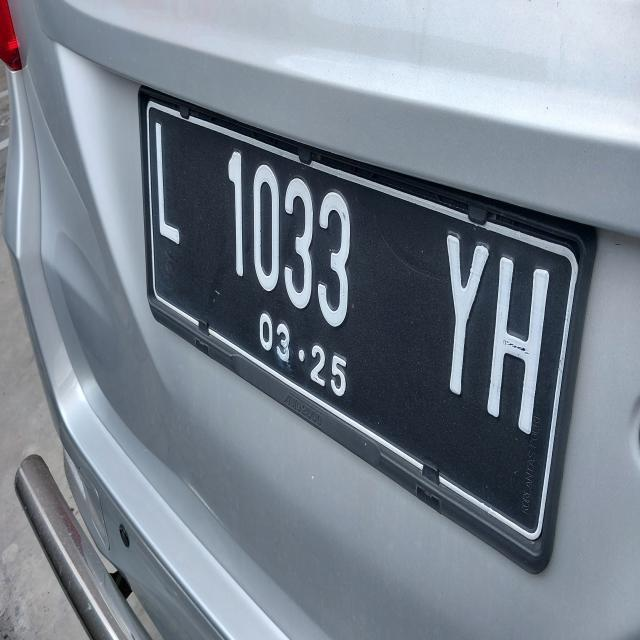0: (248, 157, 281, 296)
1: (217, 135, 254, 306)
3: (317, 168, 357, 334), (281, 148, 318, 314)
H: (484, 239, 552, 452)
L: (139, 114, 201, 270)
Y: (432, 206, 492, 417)
